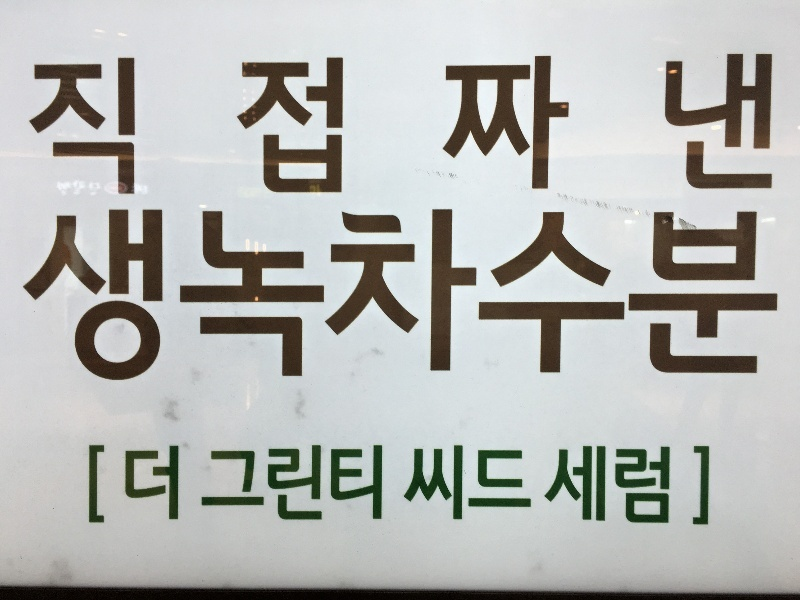text: (49, 210, 64, 385), (65, 210, 80, 385), (81, 210, 96, 385), (97, 210, 112, 385), (113, 210, 128, 385), (129, 210, 144, 385), (145, 210, 160, 385), (161, 210, 176, 385), (177, 210, 192, 385), (193, 210, 208, 385), (209, 210, 224, 385), (225, 210, 240, 385), (241, 210, 256, 385), (257, 210, 272, 385), (273, 210, 288, 385), (289, 210, 304, 385), (305, 210, 320, 385), (321, 210, 336, 385), (337, 210, 352, 385), (353, 210, 368, 385), (369, 210, 384, 385), (385, 210, 400, 385), (401, 210, 416, 385), (417, 210, 432, 385), (433, 210, 448, 385), (449, 210, 464, 385), (465, 210, 480, 385), (481, 210, 496, 385), (497, 210, 512, 385), (513, 210, 528, 385), (529, 210, 544, 385), (545, 210, 560, 385), (561, 210, 576, 385), (577, 210, 592, 385), (593, 210, 608, 385), (609, 210, 624, 385), (625, 210, 640, 385), (641, 210, 656, 385), (657, 210, 672, 385), (673, 210, 688, 385), (689, 210, 704, 385), (705, 210, 720, 385), (721, 210, 736, 385), (737, 210, 752, 385), (753, 210, 768, 385), (769, 210, 784, 385), (33, 47, 48, 198), (49, 47, 64, 198), (65, 47, 80, 198), (81, 47, 96, 198), (97, 47, 112, 198), (113, 47, 128, 198), (129, 47, 144, 198), (145, 47, 160, 198), (161, 47, 176, 198), (177, 47, 192, 198), (193, 47, 208, 198), (209, 47, 224, 198), (225, 47, 240, 198), (241, 47, 256, 198), (257, 47, 272, 198), (273, 47, 288, 198), (289, 47, 304, 198), (305, 47, 320, 198), (321, 47, 336, 198), (337, 47, 352, 198), (353, 47, 368, 198), (369, 47, 384, 198), (385, 47, 400, 198), (401, 47, 416, 198), (417, 47, 432, 198), (433, 47, 448, 198), (449, 47, 464, 198), (465, 47, 480, 198), (481, 47, 496, 198), (497, 47, 512, 198), (513, 47, 528, 198), (529, 47, 544, 198), (545, 47, 560, 198), (561, 47, 576, 198), (577, 47, 592, 198), (593, 47, 608, 198), (609, 47, 624, 198), (625, 47, 640, 198), (641, 47, 656, 198), (657, 47, 672, 198), (673, 47, 688, 198), (689, 47, 704, 198), (705, 47, 720, 198), (721, 47, 736, 198), (737, 47, 752, 198), (753, 47, 768, 198), (36, 210, 48, 385), (417, 443, 432, 524), (433, 443, 448, 524), (449, 443, 464, 524), (465, 443, 480, 524), (481, 443, 496, 524), (497, 443, 512, 524), (513, 443, 528, 524), (97, 445, 112, 525), (113, 445, 128, 525), (129, 445, 144, 525), (145, 445, 160, 525), (161, 445, 176, 525), (225, 443, 240, 523), (241, 443, 256, 523), (257, 443, 272, 523), (273, 443, 288, 523), (289, 443, 304, 523), (305, 443, 320, 523), (321, 443, 336, 523), (337, 443, 352, 523), (353, 443, 368, 523), (369, 443, 384, 523), (561, 448, 576, 527), (577, 448, 592, 527), (593, 448, 608, 527), (609, 448, 624, 527), (625, 448, 640, 527), (641, 448, 656, 527), (657, 448, 672, 527), (673, 448, 688, 527), (689, 448, 704, 527), (211, 443, 224, 523), (769, 47, 774, 198), (529, 443, 536, 524), (89, 445, 96, 525), (705, 448, 710, 527), (785, 210, 787, 385), (177, 445, 179, 525)
